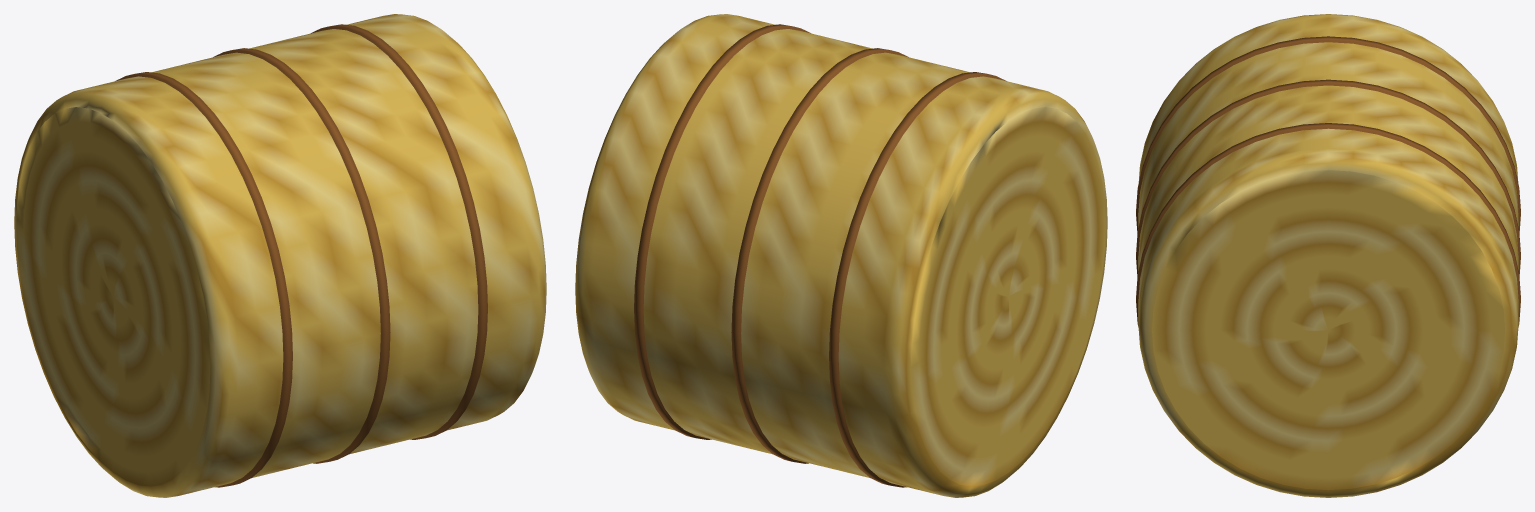
Rendered from hay_round.glb.
The picture shows the model from 3 angles, left to right: view 1: azimuth 30°, elevation 25°; view 2: azimuth 150°, elevation 25°; view 3: azimuth 270°, elevation 25°; orthographic projection. The views are drawn at different scales.
Parts seen in each view (by area): view 1: hay_round; view 2: hay_round; view 3: hay_round.
Part boxes in pixels (x1,y1,x2,y2): hay_round: (14, 14, 546, 497); hay_round: (575, 14, 1107, 497); hay_round: (1136, 14, 1520, 497).
Bounding box in the file's own units: 1.2 × 1.32 × 1.32.
